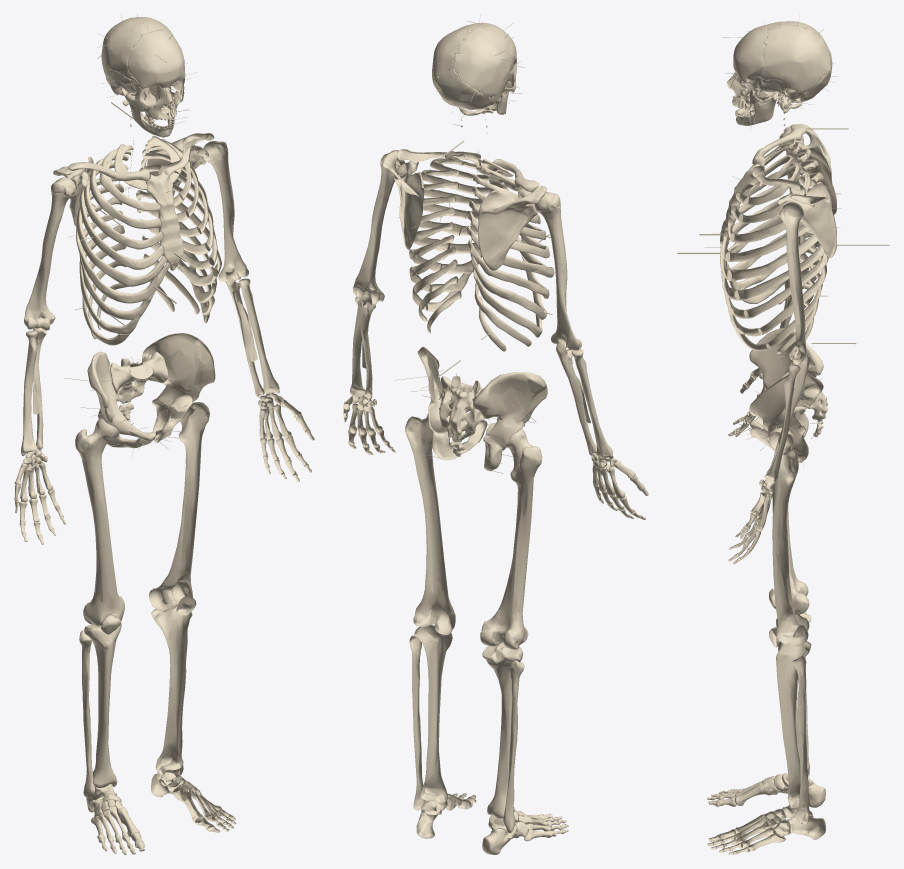
File: skeleton.glb
The picture shows the model from 3 angles, left to right: view 1: azimuth 30°, elevation 25°; view 2: azimuth 150°, elevation 25°; view 3: azimuth 270°, elevation 25°; orthographic projection.
Visible parts, largest first — view 1: ribcage, pelvis, skull, femurR, femurL, shinR, shinL, handL, handR, humerusR, humerusL, forearmL (+7 smaller); view 2: ribcage, pelvis, skull, femurR, femurL, shinL, shinR, scapulaR, humerusR, forearmR, humerusL, scapulaL (+6 smaller); view 3: ribcage, skull, pelvis, shinL, femurL, footL, humerusL, scapulaL, handL, forearmL, footR, scapulaR (+5 smaller).
Part boxes in pixels (x1=…): ribcage: x1=68, y1=136, x2=221, y2=345; pelvis: x1=64, y1=333, x2=215, y2=458; skull: x1=97, y1=14, x2=197, y2=137; femurR: x1=75, y1=418, x2=124, y2=626; femurL: x1=149, y1=402, x2=209, y2=610; shinR: x1=79, y1=623, x2=121, y2=797; shinL: x1=151, y1=605, x2=192, y2=775; handL: x1=195, y1=393, x2=314, y2=832; handR: x1=14, y1=450, x2=145, y2=854; humerusR: x1=24, y1=177, x2=75, y2=330; humerusL: x1=203, y1=141, x2=248, y2=285; forearmL: x1=225, y1=278, x2=279, y2=406; ribcage: x1=398, y1=151, x2=554, y2=351; pelvis: x1=394, y1=346, x2=547, y2=473; skull: x1=432, y1=14, x2=524, y2=114; femurR: x1=480, y1=429, x2=542, y2=649; femurL: x1=405, y1=413, x2=455, y2=635; shinL: x1=409, y1=625, x2=452, y2=810; shinR: x1=482, y1=642, x2=524, y2=833; scapulaR: x1=478, y1=113, x2=546, y2=270; humerusR: x1=534, y1=192, x2=581, y2=350; forearmR: x1=556, y1=341, x2=613, y2=460; humerusL: x1=353, y1=153, x2=405, y2=304; scapulaL: x1=382, y1=113, x2=462, y2=249; ribcage: x1=677, y1=138, x2=889, y2=353; skull: x1=722, y1=14, x2=837, y2=130; pelvis: x1=736, y1=328, x2=827, y2=467; shinL: x1=776, y1=641, x2=811, y2=823; femurL: x1=769, y1=432, x2=809, y2=645; footL: x1=734, y1=805, x2=825, y2=850; humerusL: x1=779, y1=202, x2=806, y2=364; scapulaL: x1=778, y1=112, x2=836, y2=258; handL: x1=707, y1=479, x2=773, y2=854; forearmL: x1=759, y1=353, x2=809, y2=487; footR: x1=734, y1=773, x2=825, y2=807; scapulaR: x1=783, y1=113, x2=836, y2=214.
Bounding box in the file's own units: 66.92 × 170 × 40.89.
